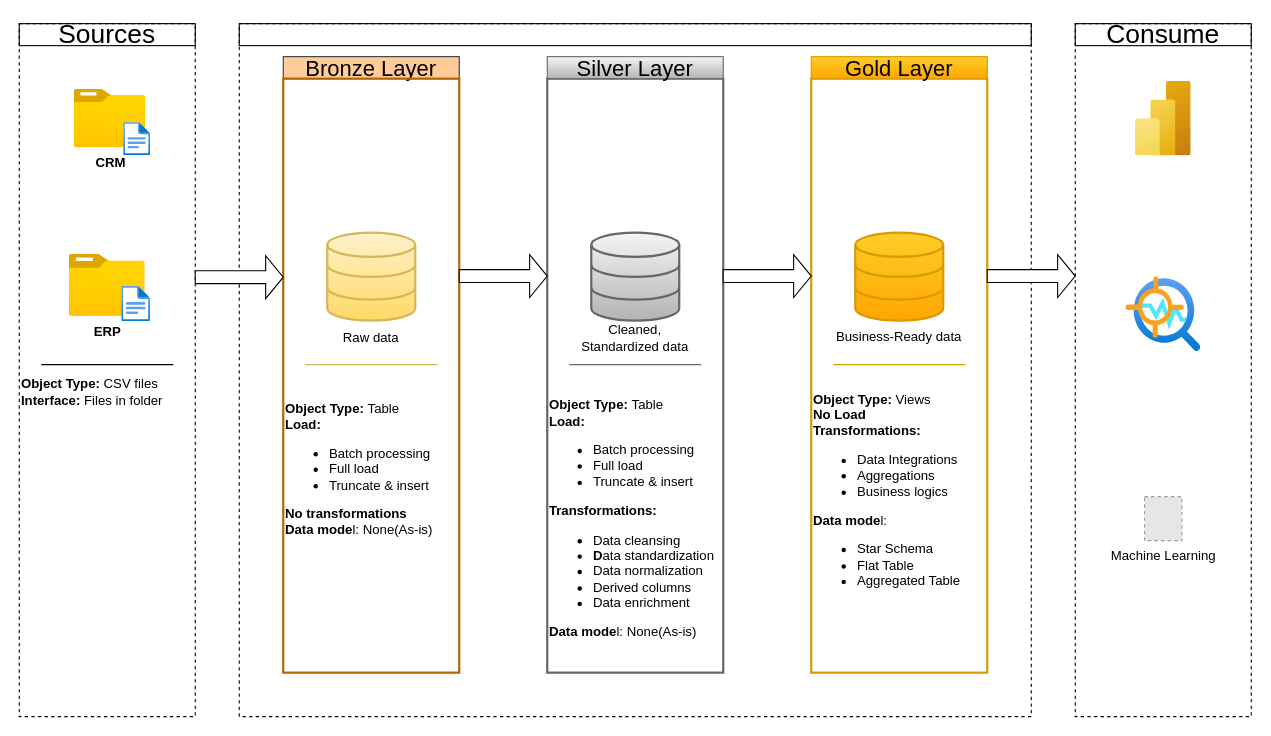
Image size: 1271x736. Some labels were removed from this diagram. Grey dashed boxes stand in for pictures. Each missing label, with the centre of its shape:
Ad Hoc SQL Queries: (x=1162, y=313)
BI & Reporting: (x=1163, y=118)
Data Warehouse: (x=634, y=34)
